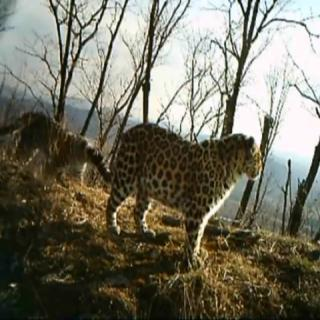Leopard: (112, 112, 276, 254)
